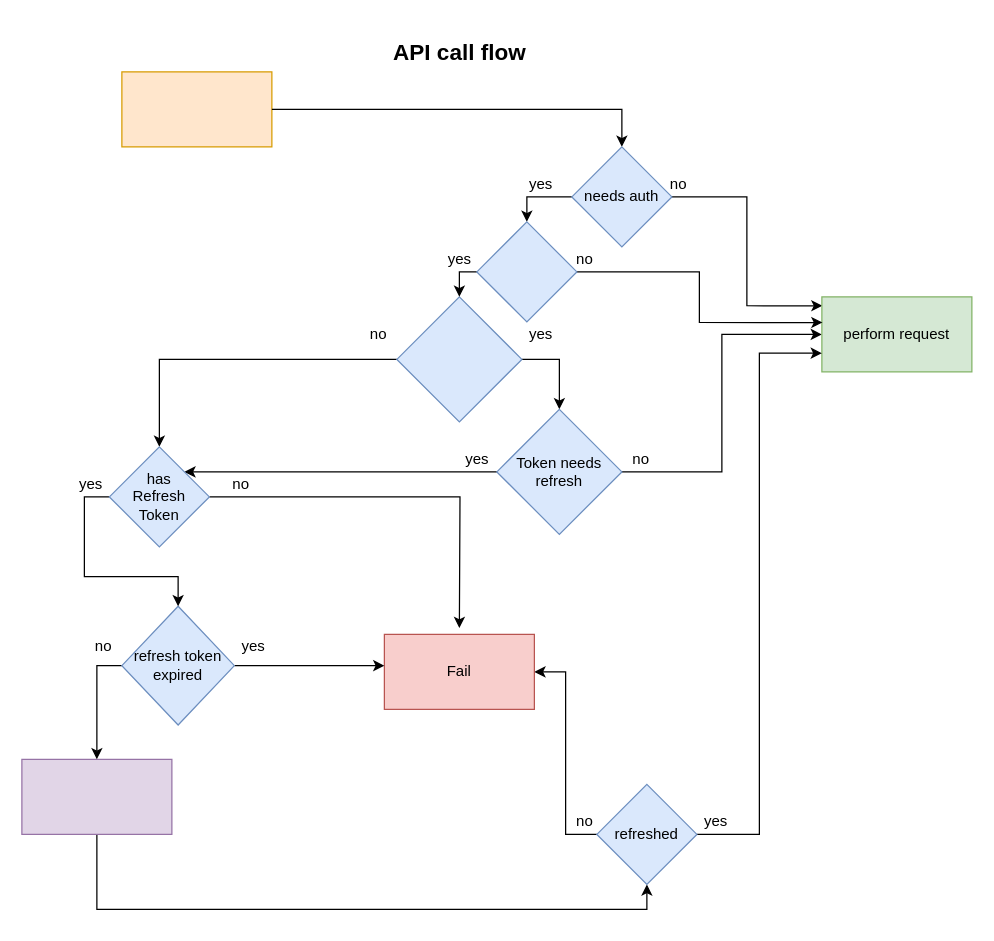
Image size: 994x941. Some labels were removed from this diagram. The box of each missing label's shape, as (x1, y1, x2, y2) in pixels:
build request: (121, 71, 272, 147)
has Access Token: (396, 296, 522, 422)
has authorizer: (476, 221, 577, 322)
refresh token: (21, 758, 172, 834)
